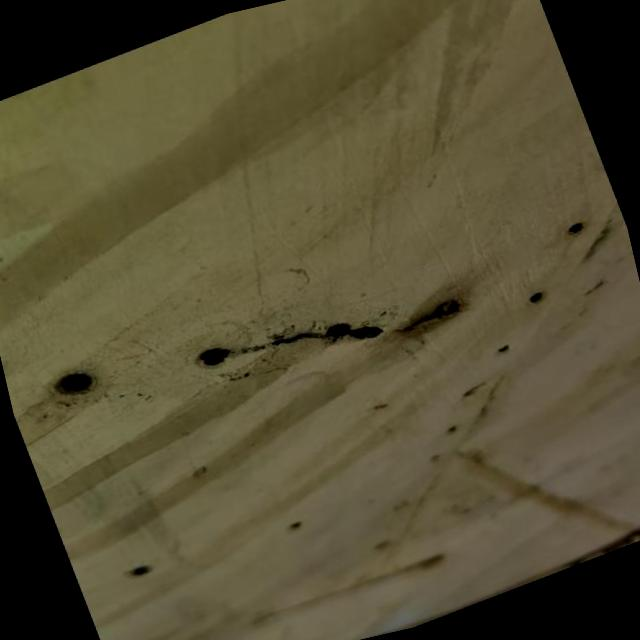Missing Fastener: (33, 358, 105, 410), (512, 276, 553, 311), (116, 553, 156, 584), (272, 512, 304, 543), (562, 214, 596, 242), (484, 336, 520, 362), (436, 420, 464, 447), (368, 534, 394, 558)
